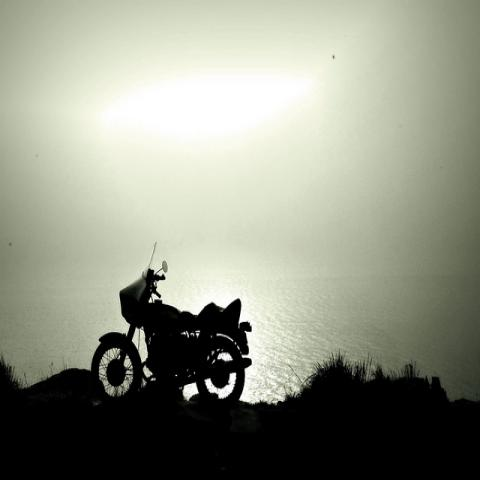motorcycle: (91, 241, 253, 407)
